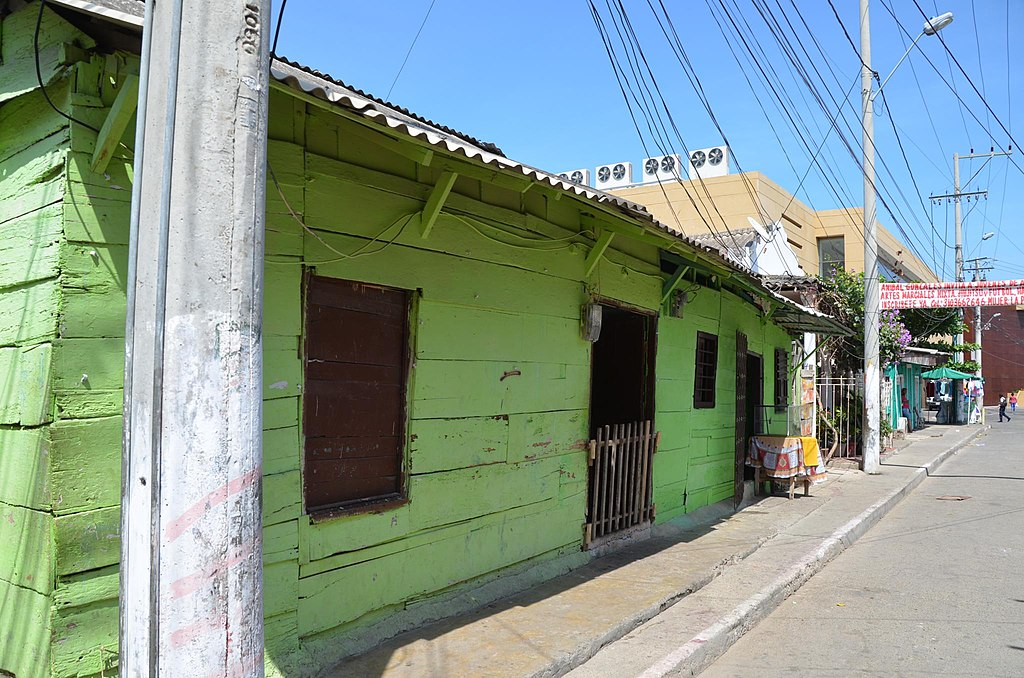House: (7, 11, 804, 551)
